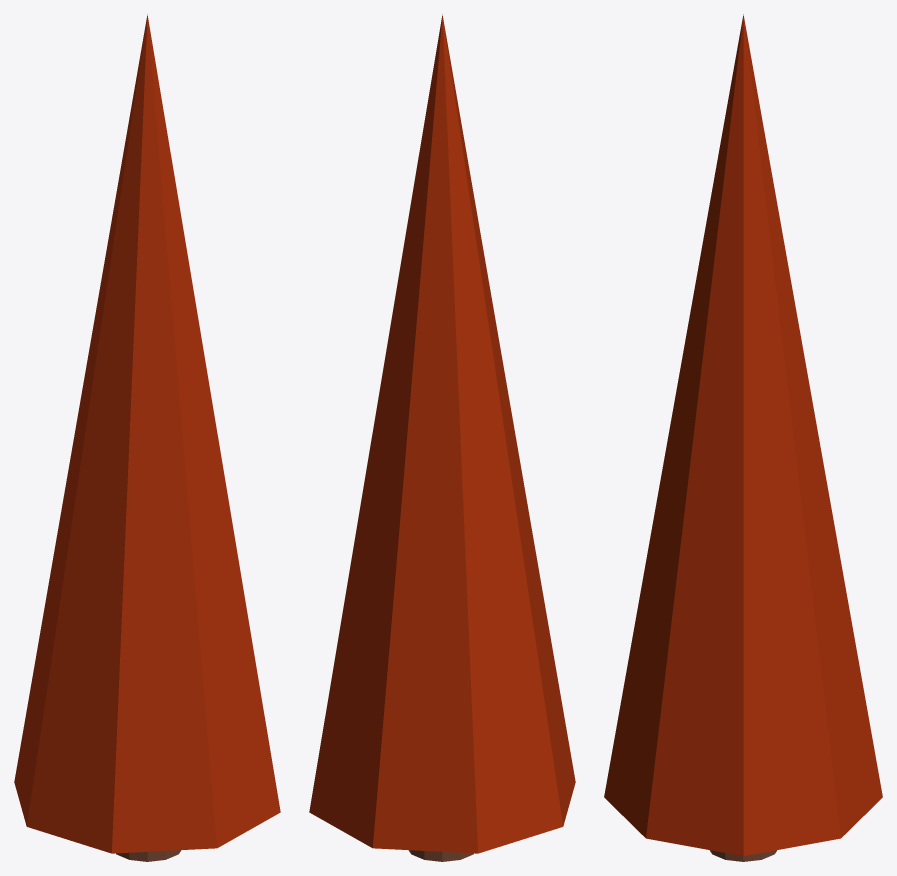
Rendered from Tree_24_summer_red_vc.fbx.
3 renders of one model, left to right at view 1: azimuth 30°, elevation 25°; view 2: azimuth 150°, elevation 25°; view 3: azimuth 270°, elevation 25°, orthographic.
Visible parts, largest first — view 1: Tree_24_summer_red_vc; view 2: Tree_24_summer_red_vc; view 3: Tree_24_summer_red_vc.
Boxes of the visible parts, box(x1,y1,x2,y2) form: Tree_24_summer_red_vc: box(14, 14, 280, 861); Tree_24_summer_red_vc: box(309, 14, 575, 861); Tree_24_summer_red_vc: box(604, 14, 882, 861).
Size of the model in its own units: 85.35 by 281 by 85.35.
